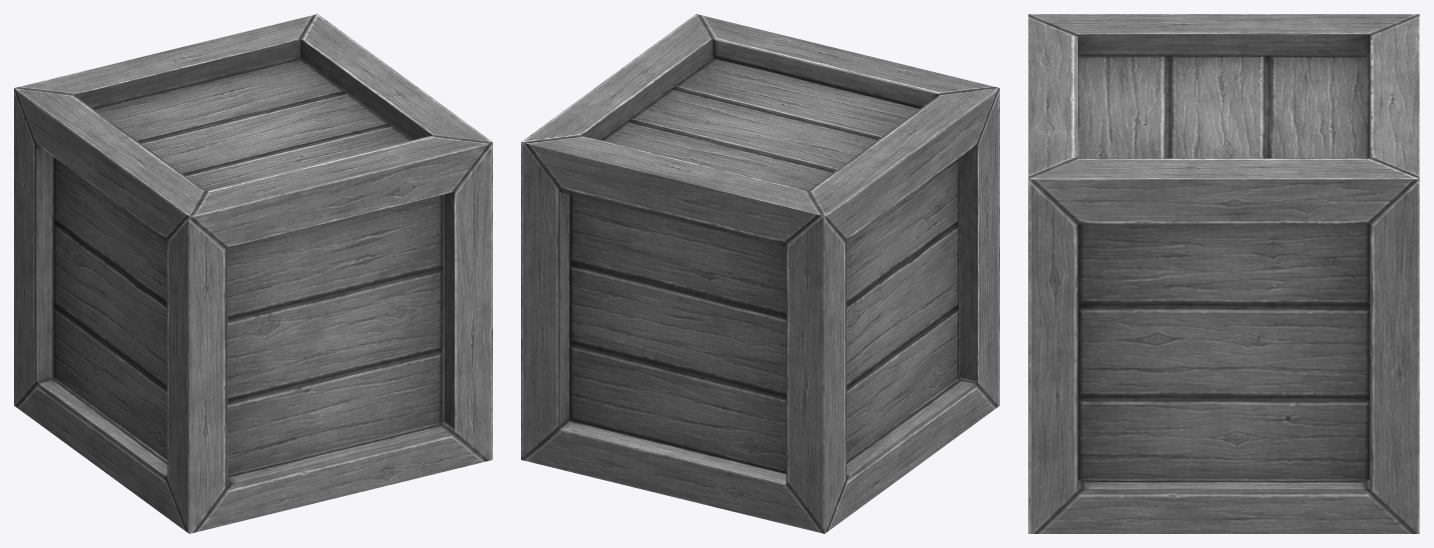
Rendered from Crate01.fbx.
3 views of the same model, side by side, from view 1: azimuth 30°, elevation 25°; view 2: azimuth 150°, elevation 25°; view 3: azimuth 270°, elevation 25° (orthographic). The views are drawn at different scales.
Visible parts, largest first — view 1: Crate01_LOD0; view 2: Crate01_LOD0; view 3: Crate01_LOD0.
Boxes of the visible parts, box(x1,y1,x2,y2) form: Crate01_LOD0: box(14, 14, 492, 533); Crate01_LOD0: box(521, 14, 999, 533); Crate01_LOD0: box(1028, 14, 1419, 533).
Size of what is drawn, in the model's own units: 0.4629 by 0.4629 by 0.4629.
